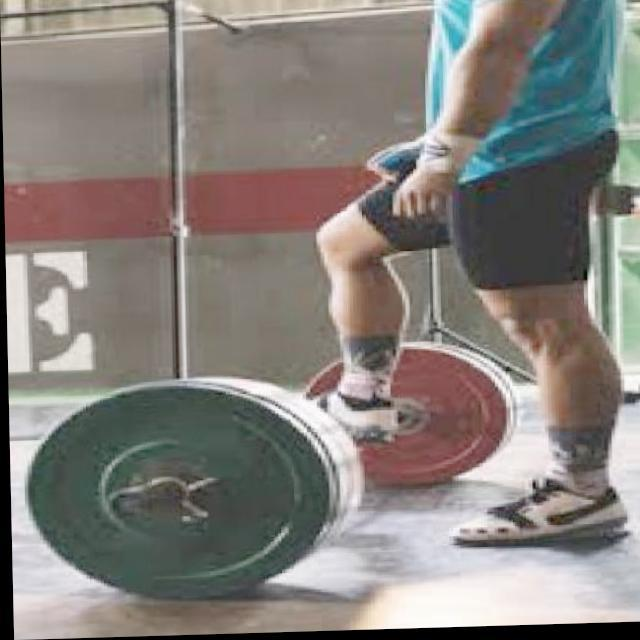barbell: (14, 373, 340, 612)
